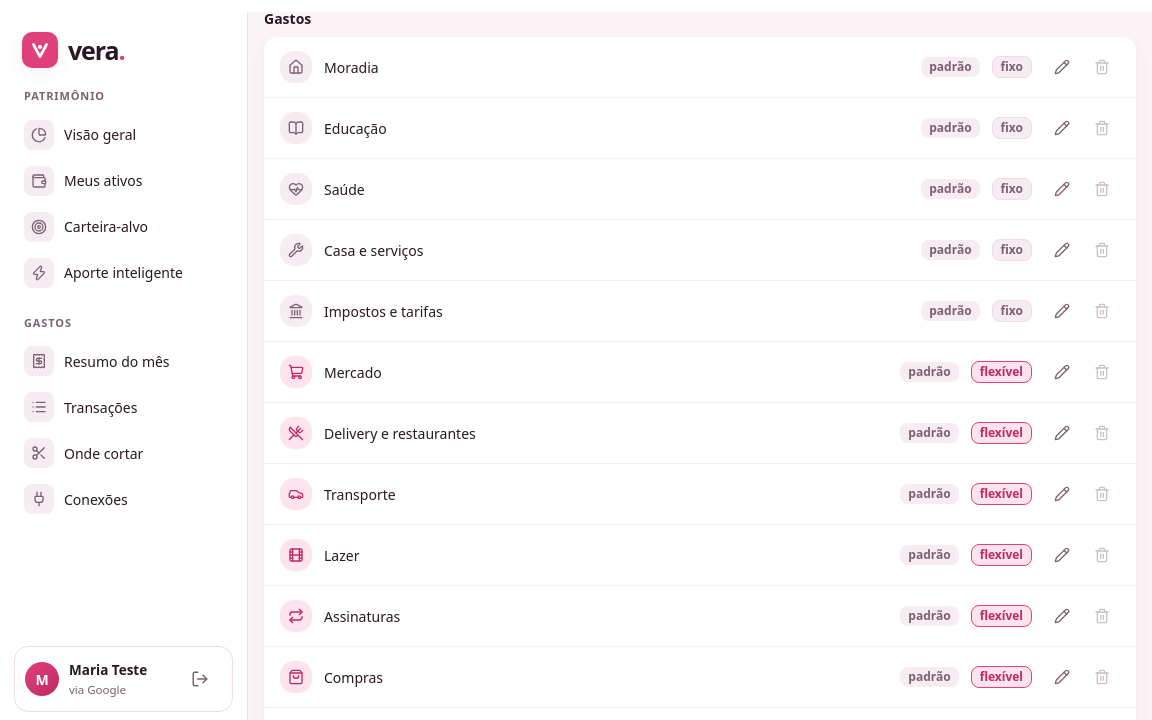
Test: RulesPage: categorias › Esc cancela a edição e o nome repetido aparece no campo
The width and height of the screenshot is (1152, 720).
(page scrolled)
Click the button named "Renomear Mercado". click: (1062, 372)
box: [1044,354,1080,390]
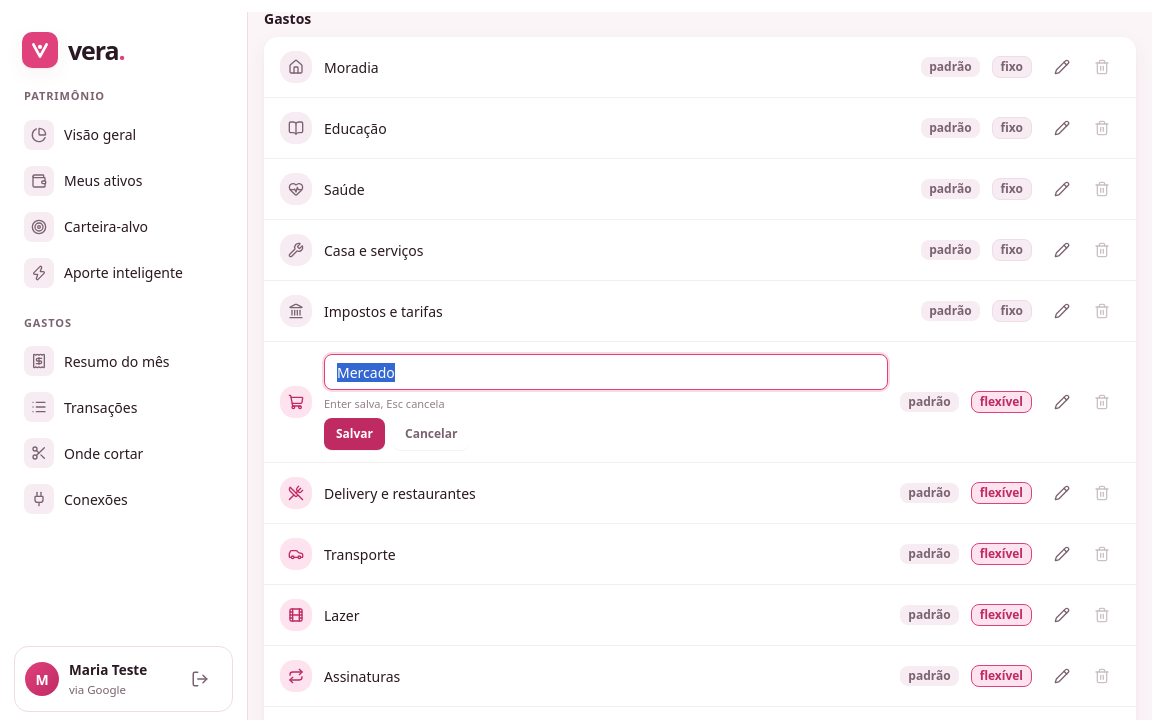
Press Escape
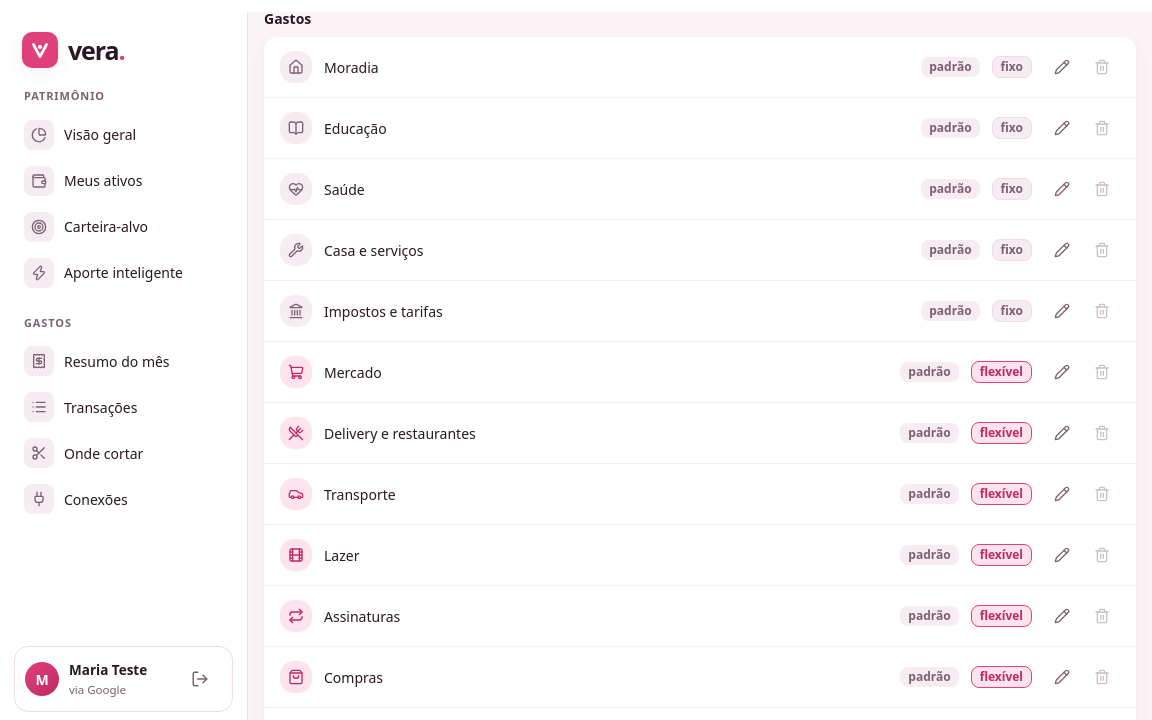
Click the button named "Renomear Mercado". click: (1062, 372)
box: [1044,354,1080,390]
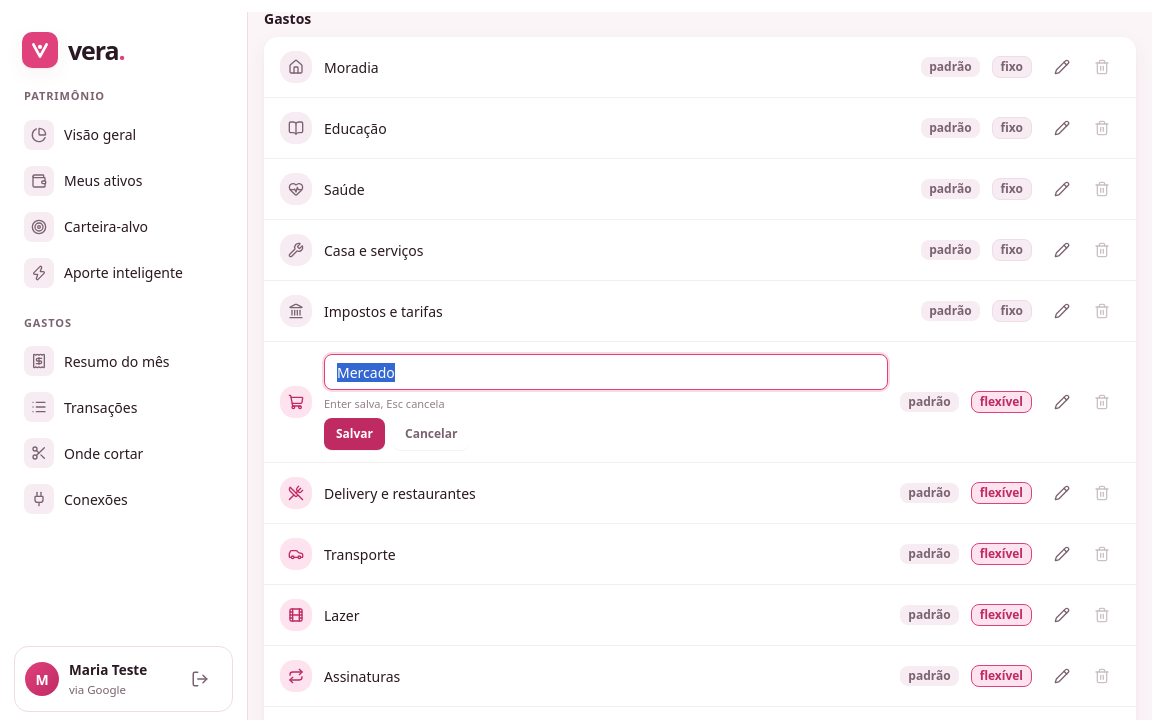
Type "x" into the field named "Nome da categoria Mercado". click: (606, 372)
box: [324,354,888,390]
Then press Enter
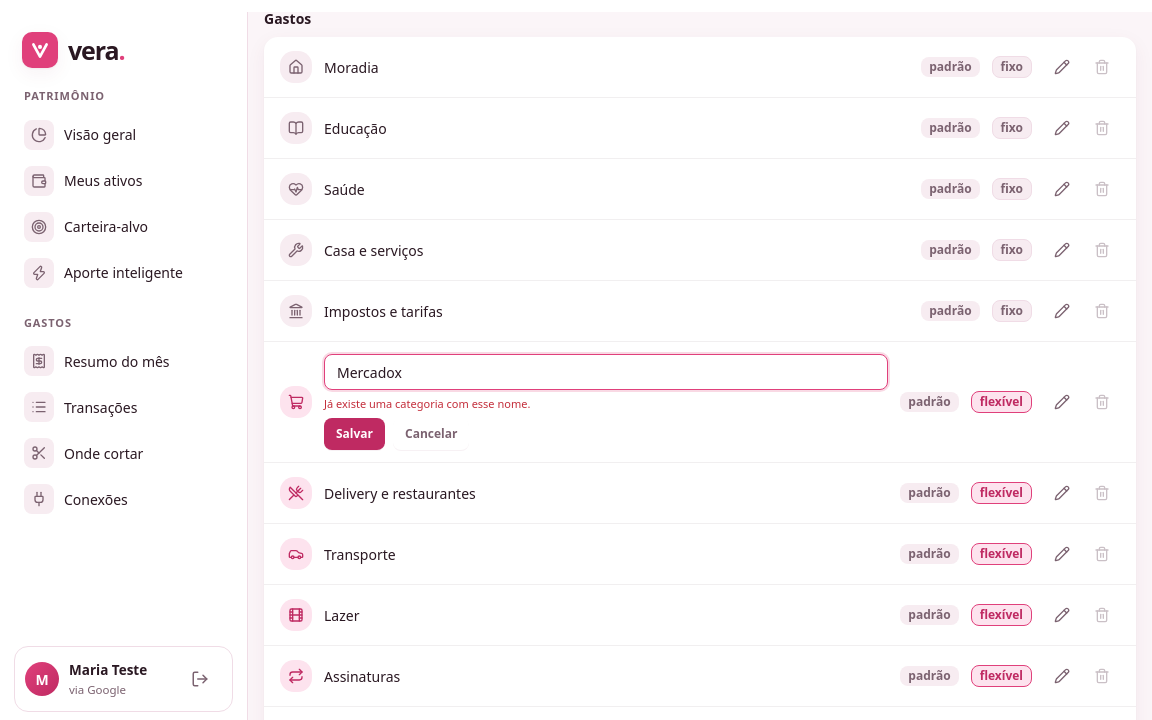
Check: the text "Já existe uma categoria com esse nome." is shown, box [324,396,530,411]
